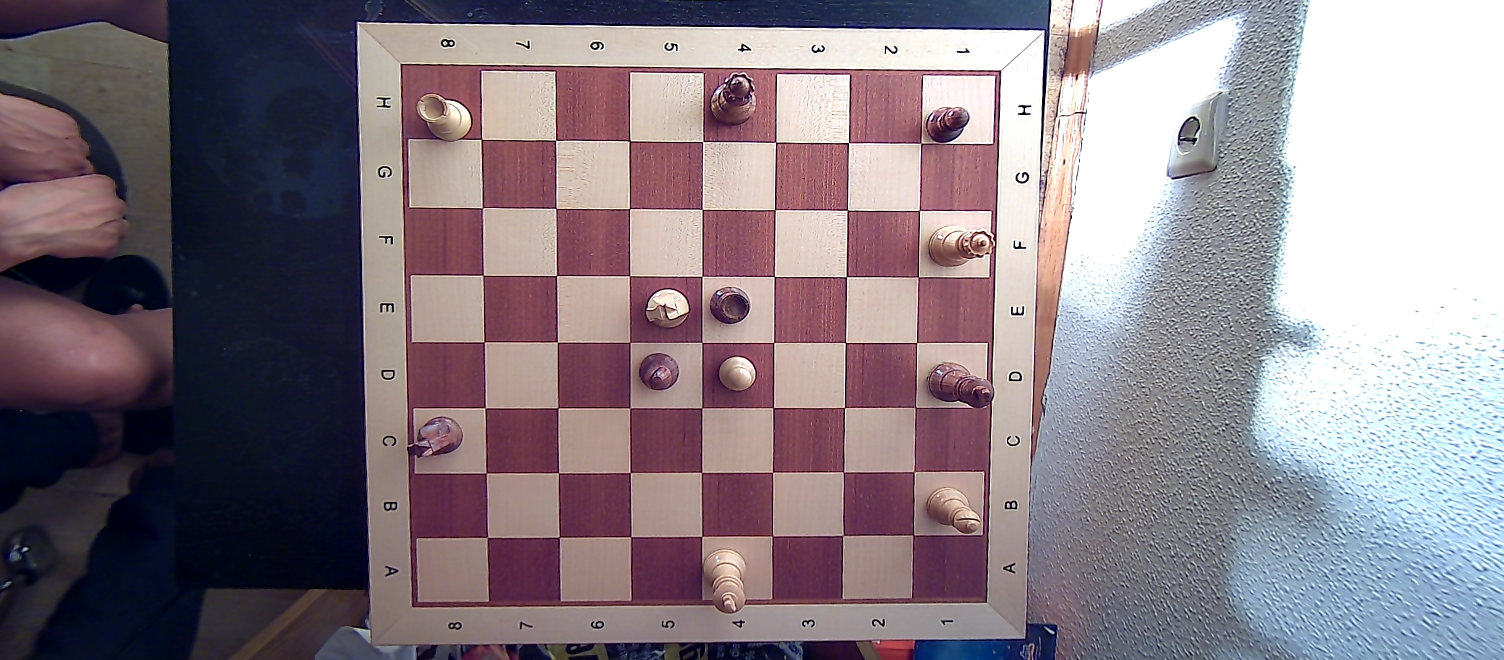black-bishop: (634, 350, 684, 395)
black-king: (922, 358, 999, 414)
black-knight: (404, 414, 469, 462)
black-pawn: (923, 104, 972, 144)
black-queen: (709, 70, 760, 126)
black-rook: (708, 284, 755, 328)
white-bishop: (923, 481, 983, 539)
white-king: (699, 546, 750, 616)
white-knight: (639, 284, 693, 330)
white-pawn: (714, 351, 757, 395)
white-queen: (927, 221, 994, 273)
white-rook: (412, 90, 477, 145)
